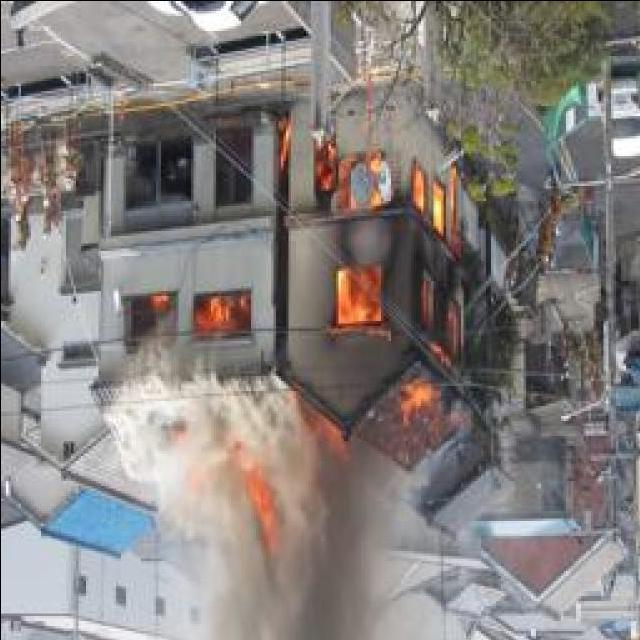Fire: (305, 146, 469, 450), (182, 460, 285, 548), (148, 293, 242, 337)
